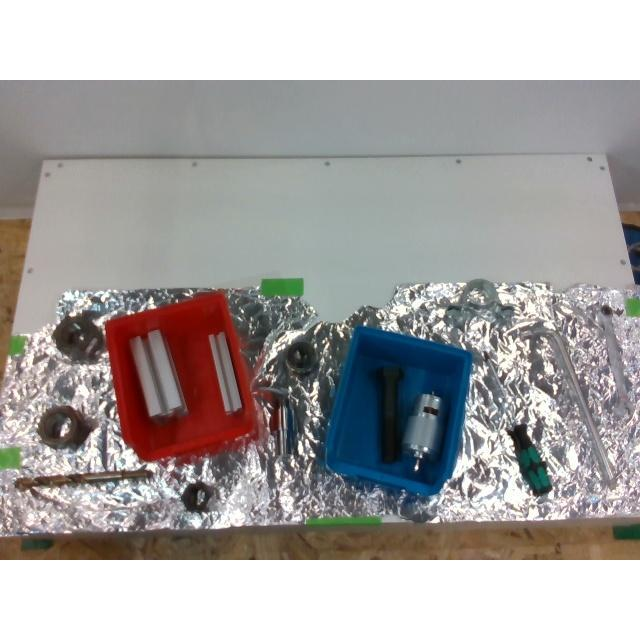AllenKey: (521, 321, 627, 485)
Axis2: (256, 387, 300, 455)
Bearing2: (283, 336, 317, 376)
Drill: (15, 468, 154, 488)
F20_20_G: (210, 332, 242, 412)
Housing: (442, 278, 514, 314)
M20: (181, 482, 213, 511)
M20_100: (372, 362, 403, 462)
M30: (52, 311, 104, 363), (37, 405, 95, 449)
Motor2: (402, 393, 442, 471)
S40_40_G: (130, 328, 186, 416)
Screwdriver: (483, 352, 552, 496)
Wrench: (596, 306, 628, 414)
container_box_blue: (326, 327, 470, 495)
container_box_red: (104, 292, 256, 460)
